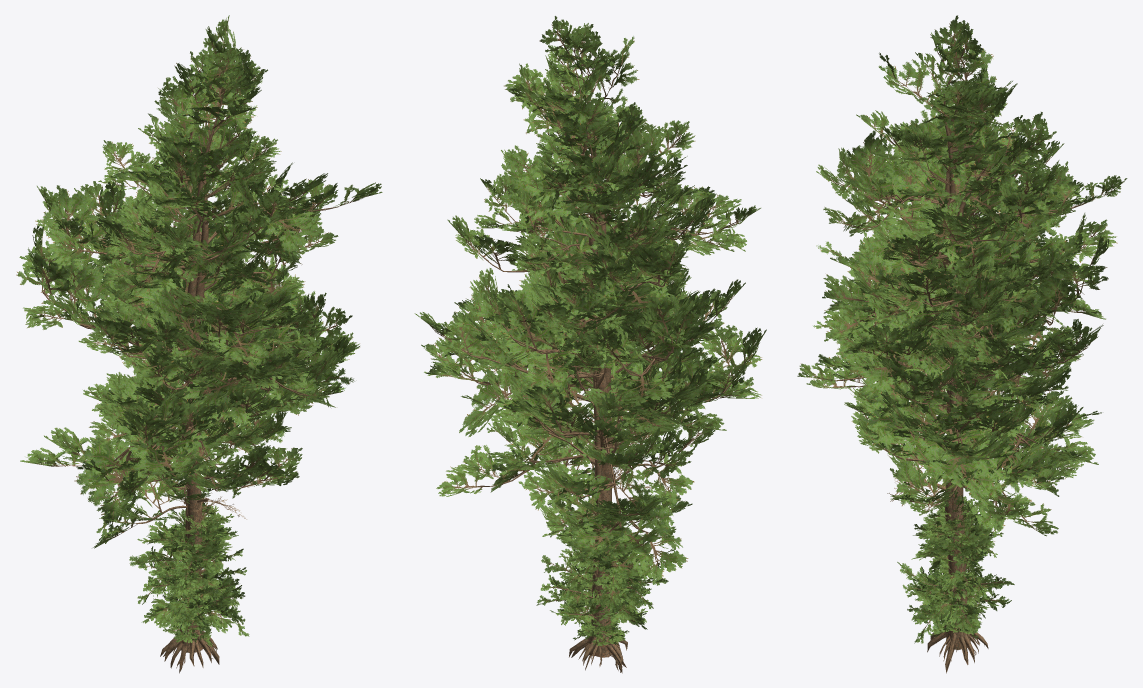
The model's file is pine-pack-forestland.glb.
3 renders of one model, left to right at view 1: azimuth 30°, elevation 25°; view 2: azimuth 150°, elevation 25°; view 3: azimuth 270°, elevation 25°, orthographic. The views are drawn at different scales.
Visible parts, largest first — view 1: Pine_big_3_LOD1, Pine_big_1_LOD1, Pine_big_2_LOD1, Pine_big_3_LOD2, Pine_big_1_LOD2, Pine_big_2_LOD2, Pine_medium_1_LOD1, Pine_medium_1_LOD2, Pine_medium_2_LOD1, Pine_small_2_LOD1, Pine_small_1_LOD1, Pine_medium_3_LOD1 (+5 smaller); view 2: Pine_big_3_LOD1, Pine_big_2_LOD1, Pine_big_1_LOD1, Pine_big_3_LOD2, Pine_big_2_LOD2, Pine_big_1_LOD2, Pine_medium_1_LOD1, Pine_medium_2_LOD1, Pine_medium_3_LOD1, Pine_medium_1_LOD2, Pine_medium_2_LOD2, Pine_medium_3_LOD2 (+6 smaller); view 3: Pine_big_3_LOD1, Pine_big_2_LOD1, Pine_big_1_LOD1, Pine_big_3_LOD2, Pine_big_2_LOD2, Pine_big_1_LOD2, Pine_medium_1_LOD1, Pine_medium_2_LOD1, Pine_small_3_LOD1, Pine_medium_2_LOD2, Pine_medium_1_LOD2, Pine_small_2_LOD1 (+6 smaller).
Boxes of the visible parts, box(x1,y1,x2,y2) form: Pine_big_3_LOD1: box(17, 15, 382, 673); Pine_big_1_LOD1: box(20, 96, 343, 662); Pine_big_2_LOD1: box(67, 113, 359, 666); Pine_big_3_LOD2: box(16, 18, 377, 668); Pine_big_1_LOD2: box(26, 124, 337, 654); Pine_big_2_LOD2: box(70, 126, 354, 663); Pine_medium_1_LOD1: box(112, 212, 318, 664); Pine_medium_1_LOD2: box(115, 232, 306, 654); Pine_medium_2_LOD1: box(76, 224, 302, 668); Pine_small_2_LOD1: box(129, 508, 246, 638); Pine_small_1_LOD1: box(137, 503, 239, 627); Pine_medium_3_LOD1: box(93, 320, 270, 651); Pine_big_3_LOD1: box(447, 16, 760, 673); Pine_big_2_LOD1: box(421, 137, 766, 669); Pine_big_1_LOD1: box(414, 101, 727, 667); Pine_big_3_LOD2: box(455, 20, 755, 671); Pine_big_2_LOD2: box(427, 149, 762, 660); Pine_big_1_LOD2: box(424, 114, 722, 652); Pine_medium_1_LOD1: box(436, 203, 694, 666); Pine_medium_2_LOD1: box(482, 244, 703, 670); Pine_medium_3_LOD1: box(538, 307, 715, 659); Pine_medium_1_LOD2: box(439, 214, 693, 666); Pine_medium_2_LOD2: box(487, 248, 701, 668); Pine_medium_3_LOD2: box(538, 345, 712, 578); Pine_big_3_LOD1: box(816, 15, 1117, 664); Pine_big_2_LOD1: box(816, 115, 1127, 673); Pine_big_1_LOD1: box(797, 79, 1103, 664); Pine_big_3_LOD2: box(820, 19, 1113, 664); Pine_big_2_LOD2: box(826, 132, 1120, 670); Pine_big_1_LOD2: box(800, 111, 1099, 651); Pine_medium_1_LOD1: box(861, 182, 1059, 661); Pine_medium_2_LOD1: box(844, 228, 1083, 662); Pine_small_3_LOD1: box(902, 489, 1014, 643); Pine_medium_2_LOD2: box(847, 245, 1079, 654); Pine_medium_1_LOD2: box(861, 226, 1052, 654); Pine_small_2_LOD1: box(907, 496, 994, 633).
Size of the model in its own units: 9.63 by 19.62 by 8.92.
Materials: 2 (2 with a texture image).
